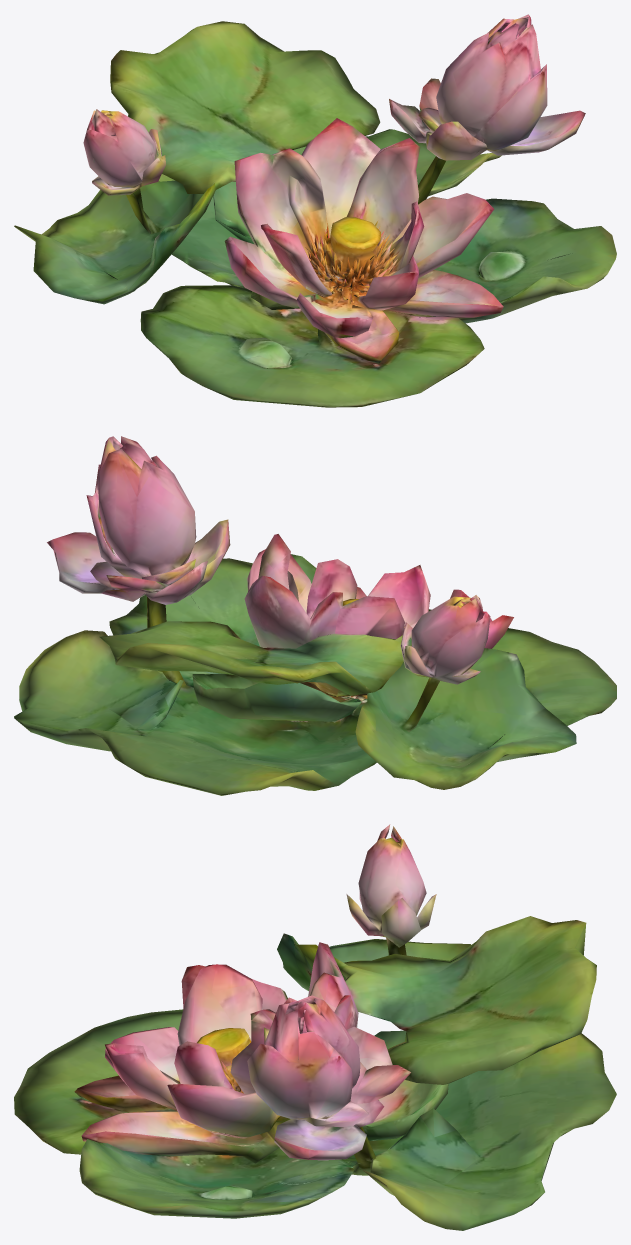
Rendered from plant_lotus_a.glb.
3 views of the same model, one above another, from view 1: azimuth 30°, elevation 25°; view 2: azimuth 150°, elevation 25°; view 3: azimuth 270°, elevation 25° (orthographic). The views are drawn at different scales.
Visible parts, largest first — view 1: lo; view 2: lo; view 3: lo.
Boxes of the visible parts, x1,y1,x2,y2 form: lo: [14, 14, 616, 407]; lo: [14, 436, 616, 795]; lo: [14, 824, 616, 1230].
Bounding box in the file's own units: 1.92 × 0.8496 × 1.77.
Materials: 1 (1 with a texture image).
